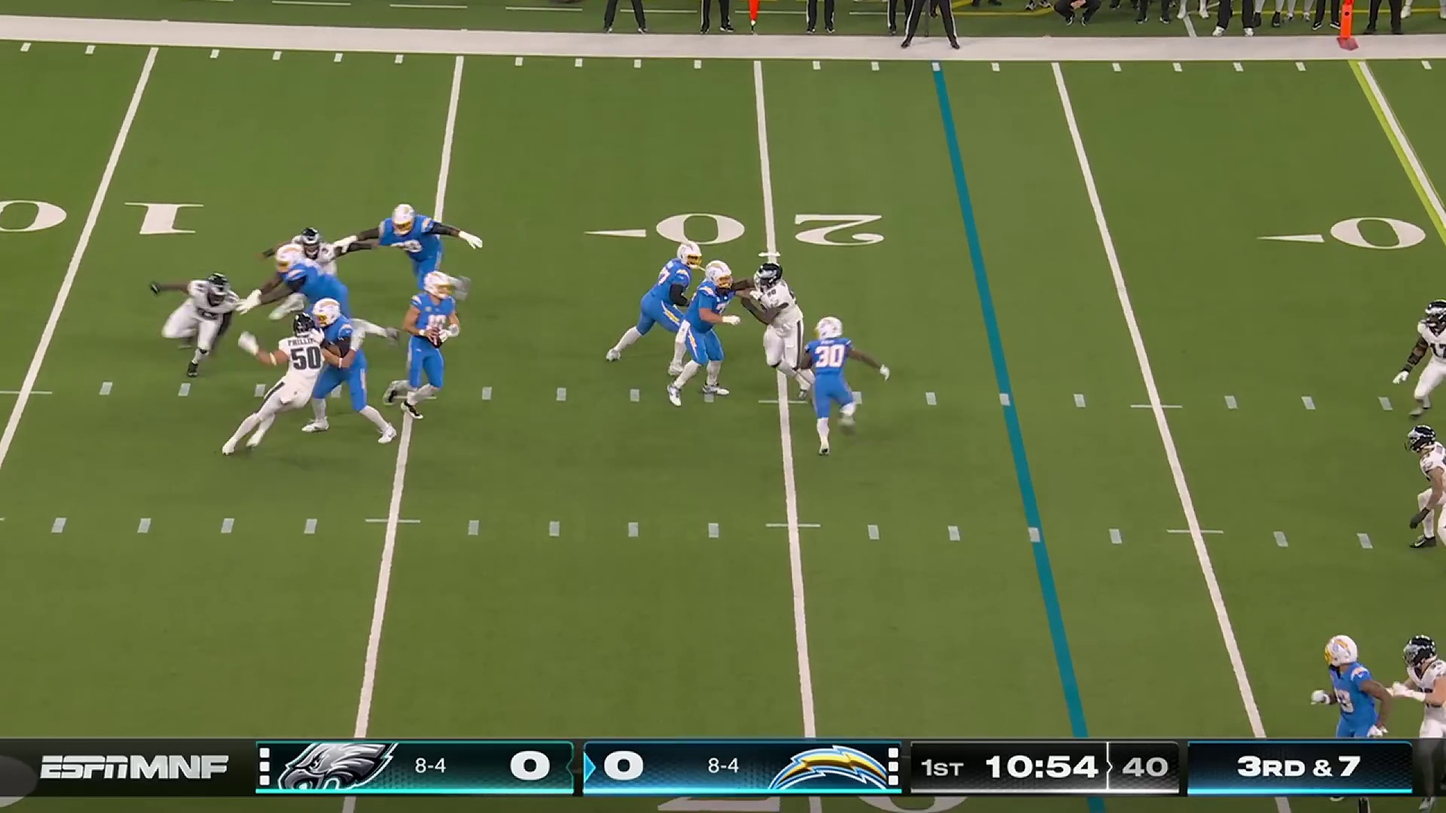ball: (431, 330, 445, 355)
player: (218, 313, 322, 459), (301, 296, 394, 450), (606, 247, 689, 382), (1318, 636, 1386, 798), (261, 247, 352, 358), (364, 198, 450, 312), (401, 246, 453, 432), (671, 262, 737, 398), (274, 222, 344, 336), (1403, 626, 1446, 808), (811, 316, 865, 453), (755, 262, 807, 393), (154, 276, 226, 367), (1408, 417, 1446, 572), (1405, 295, 1446, 429)
